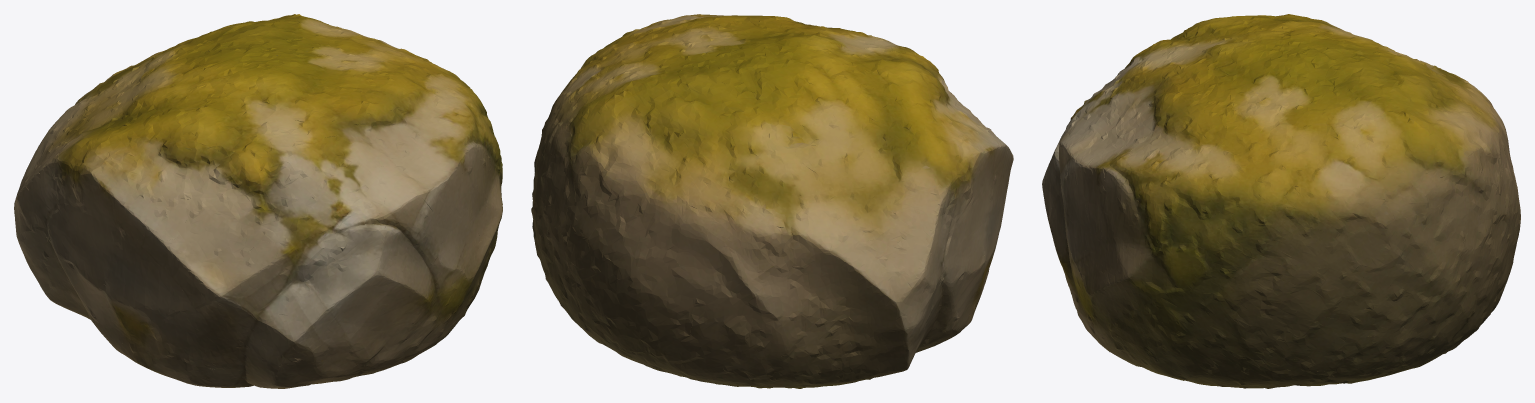
Rendered from prop-rock_big.glb.
The picture shows the model from 3 angles, left to right: view 1: azimuth 30°, elevation 25°; view 2: azimuth 150°, elevation 25°; view 3: azimuth 270°, elevation 25°; orthographic projection. The views are drawn at different scales.
Parts seen in each view (by area): view 1: geometry_0; view 2: geometry_0; view 3: geometry_0.
Boxes of the visible parts, <box> form: geometry_0: <box>14,14,502,388</box>; geometry_0: <box>531,14,1013,388</box>; geometry_0: <box>1042,14,1520,388</box>.
Bounding box in the file's own units: 1.99 × 1.31 × 2.
1 material, 1 textured.
